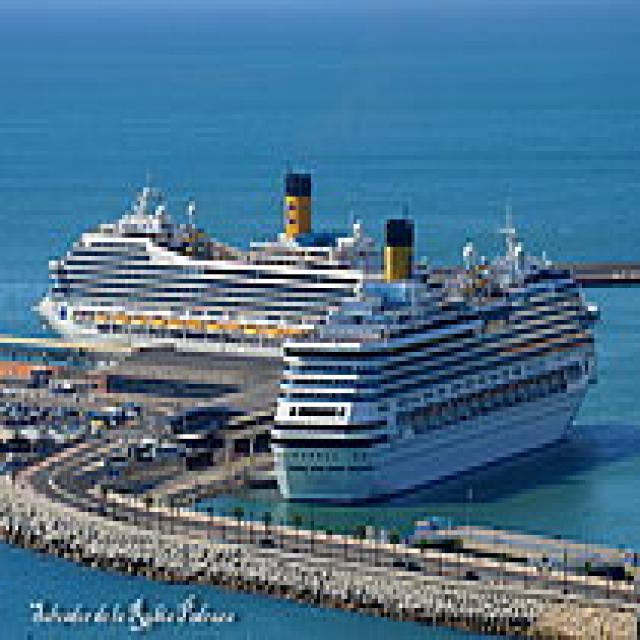Ship: (257, 230, 611, 527), (26, 166, 395, 372)
